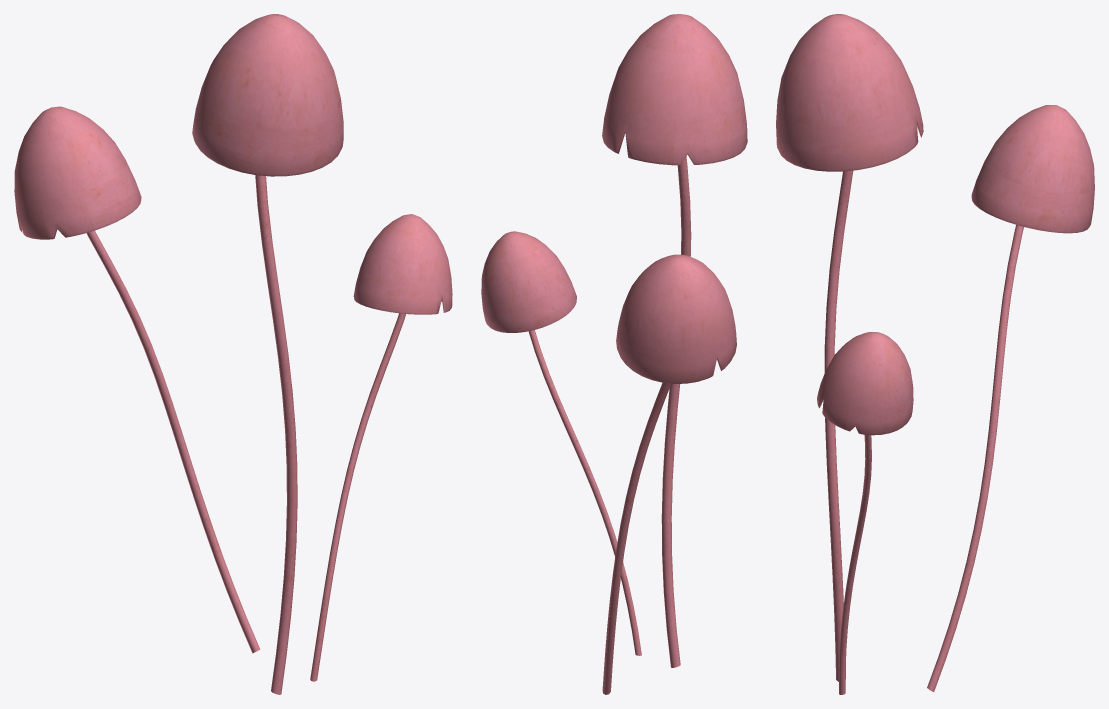
File: Shrooms_02.fbx
3 views of the same model, side by side, from view 1: azimuth 30°, elevation 25°; view 2: azimuth 150°, elevation 25°; view 3: azimuth 270°, elevation 25° (orthographic). The views are drawn at different scales.
Parts seen in each view (by area): view 1: Shrooms.002; view 2: Shrooms.002; view 3: Shrooms.002.
Part boxes in pixels (left/top/right/bottom): Shrooms.002: left=14, top=14, right=452, bottom=694; Shrooms.002: left=481, top=14, right=747, bottom=694; Shrooms.002: left=776, top=14, right=1094, bottom=694.
Bounding box in the file's own units: 5.11 × 4.3 × 9.88.
